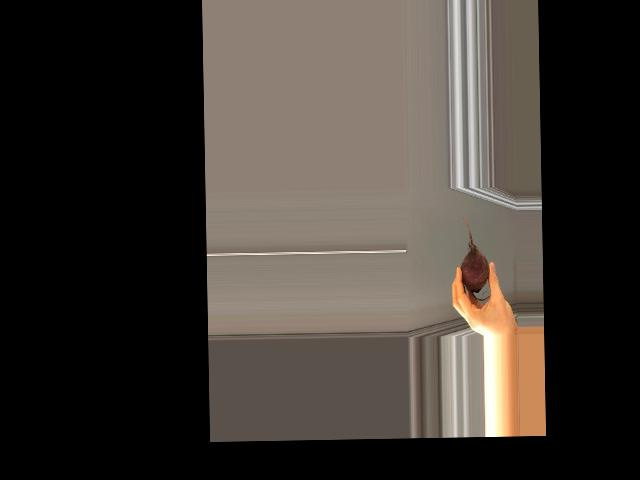beet: (460, 212, 490, 300)
